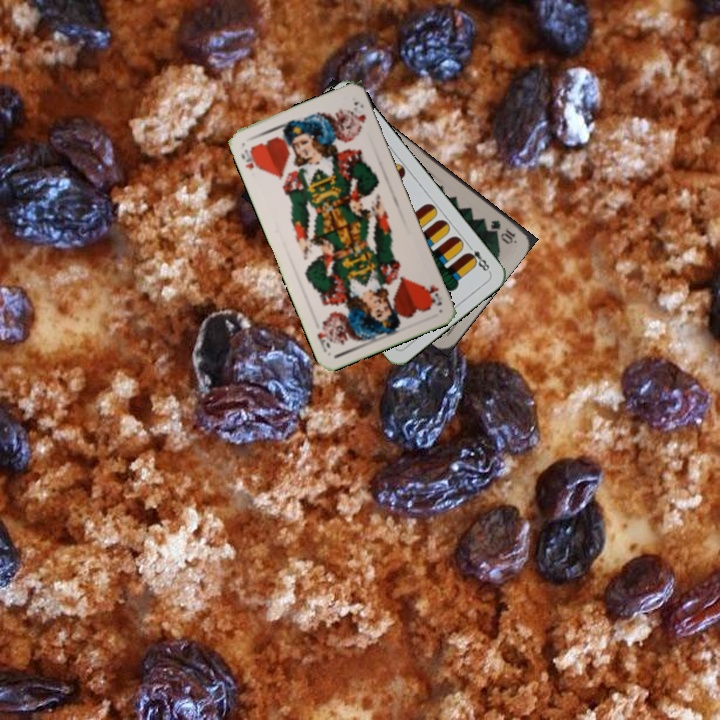E8: (462, 240, 493, 275)
G10: (486, 216, 518, 246)
HO: (237, 143, 263, 172), (420, 280, 445, 309)
